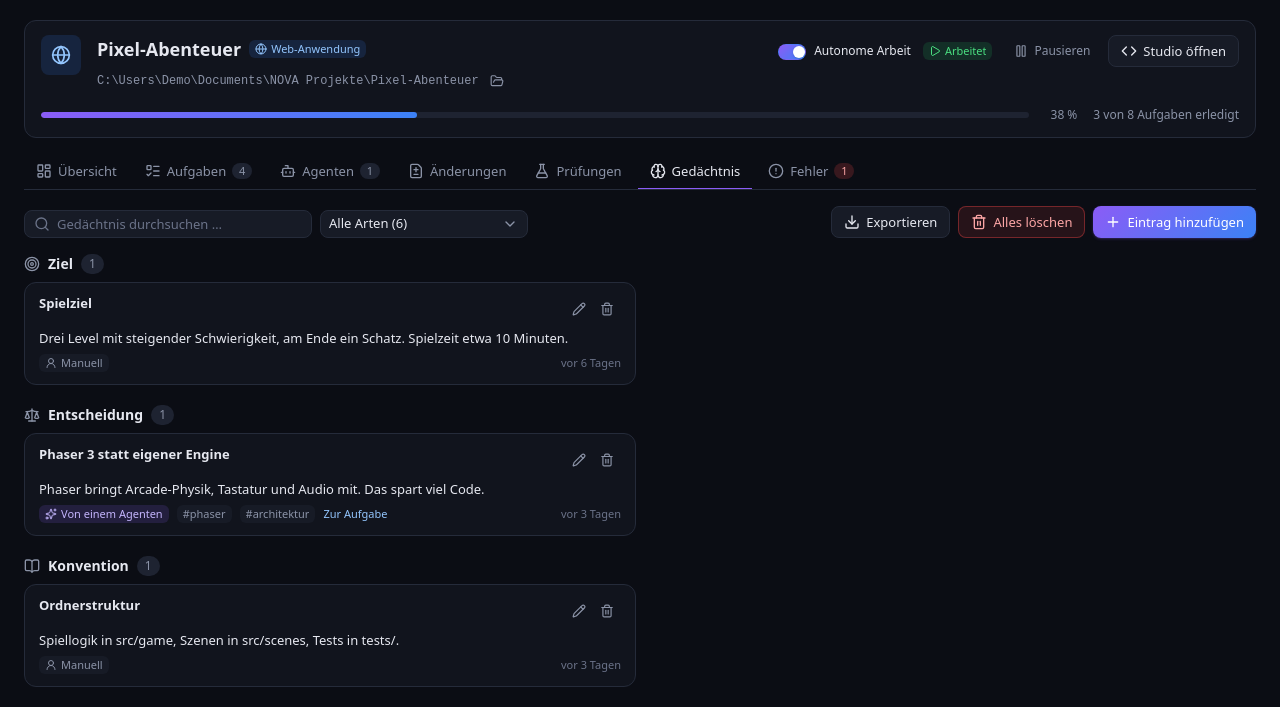
it: Gedächtnis › adds an entry
expect the element "Ziel" is shown: met, box [24,254,636,385]
Click the button "Eintrag hinzufügen": [1175, 222] box [1094,206,1256,238]
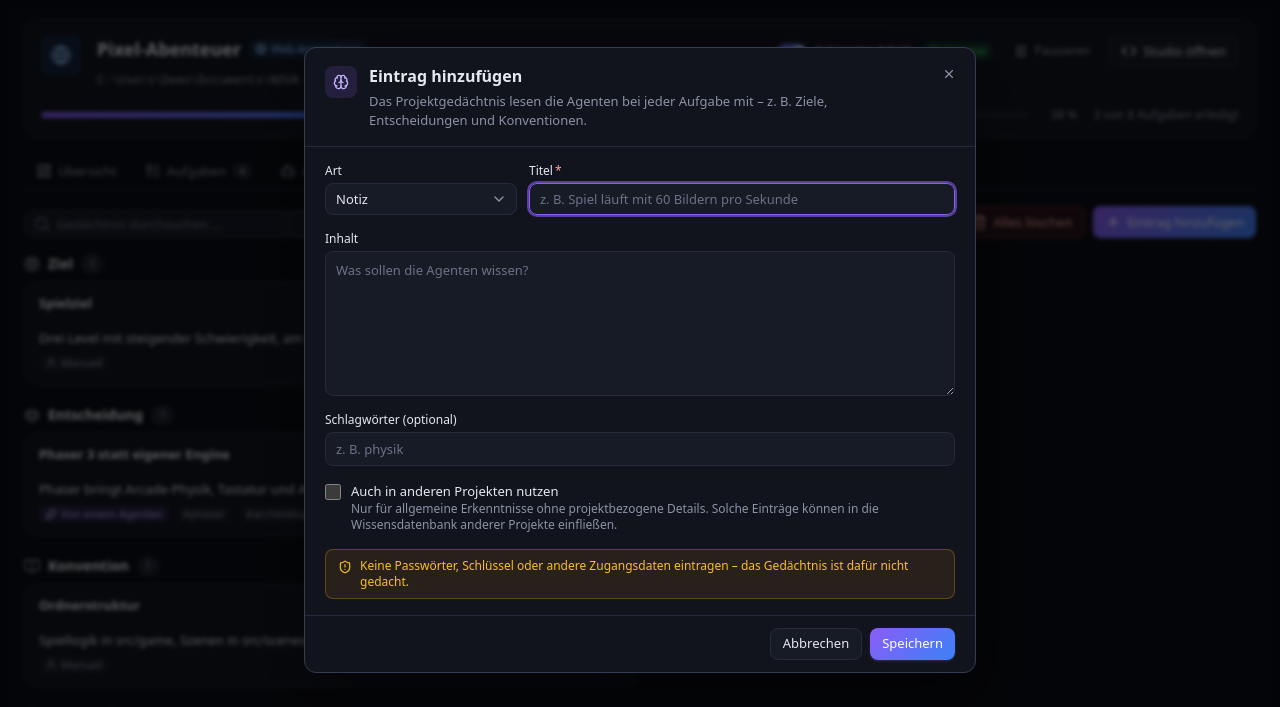
Select "Entscheidung" in the dropdown labelled "Art": [421, 199] box [325,183,517,215]
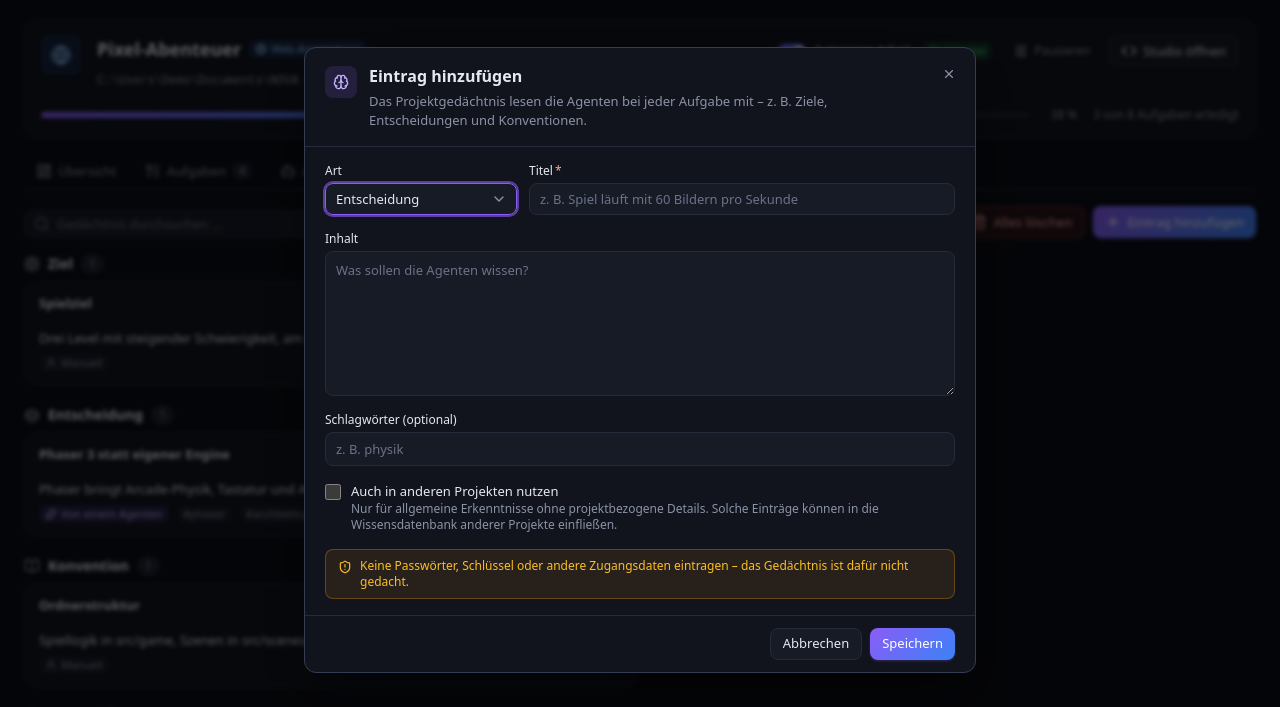
In the field labelled "Titel*": [742, 199] box [529,183,955,215], type "Kein Mehrspieler"
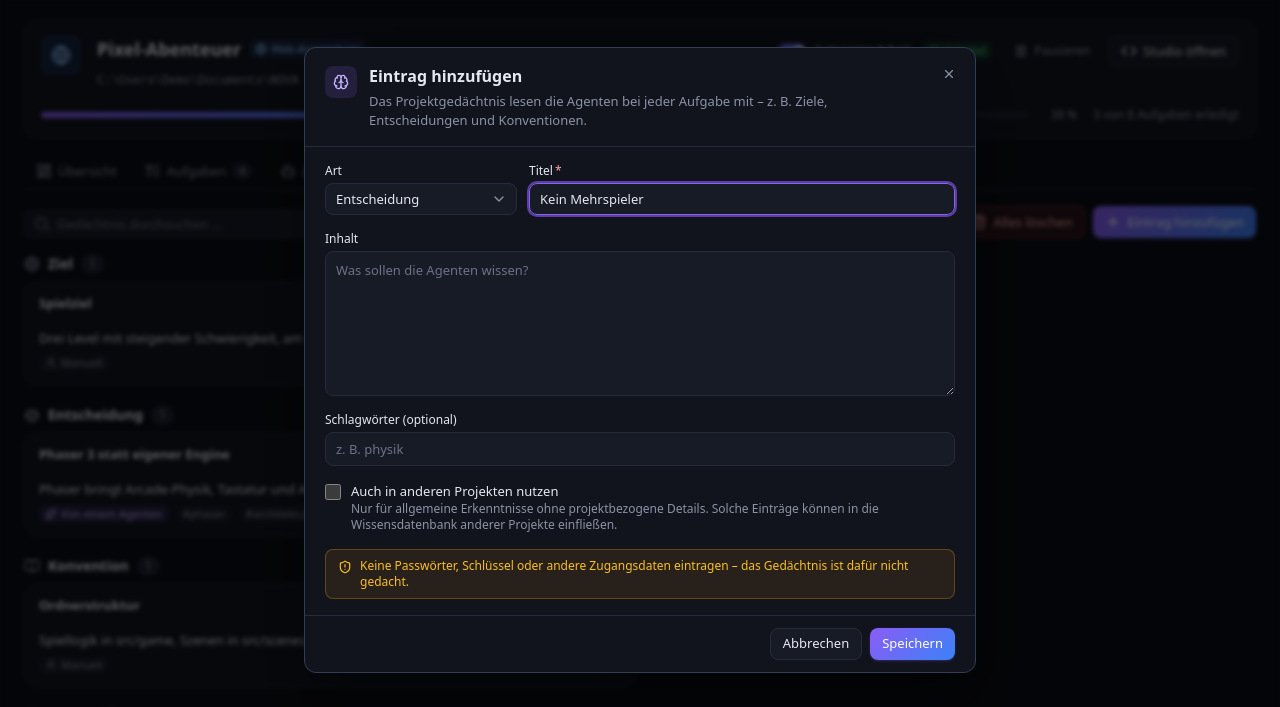
In the text box labelled "Inhalt": [640, 323] box [325,251,955,396], type "Das Spiel bleibt ein Einzelspieler-Spiel."
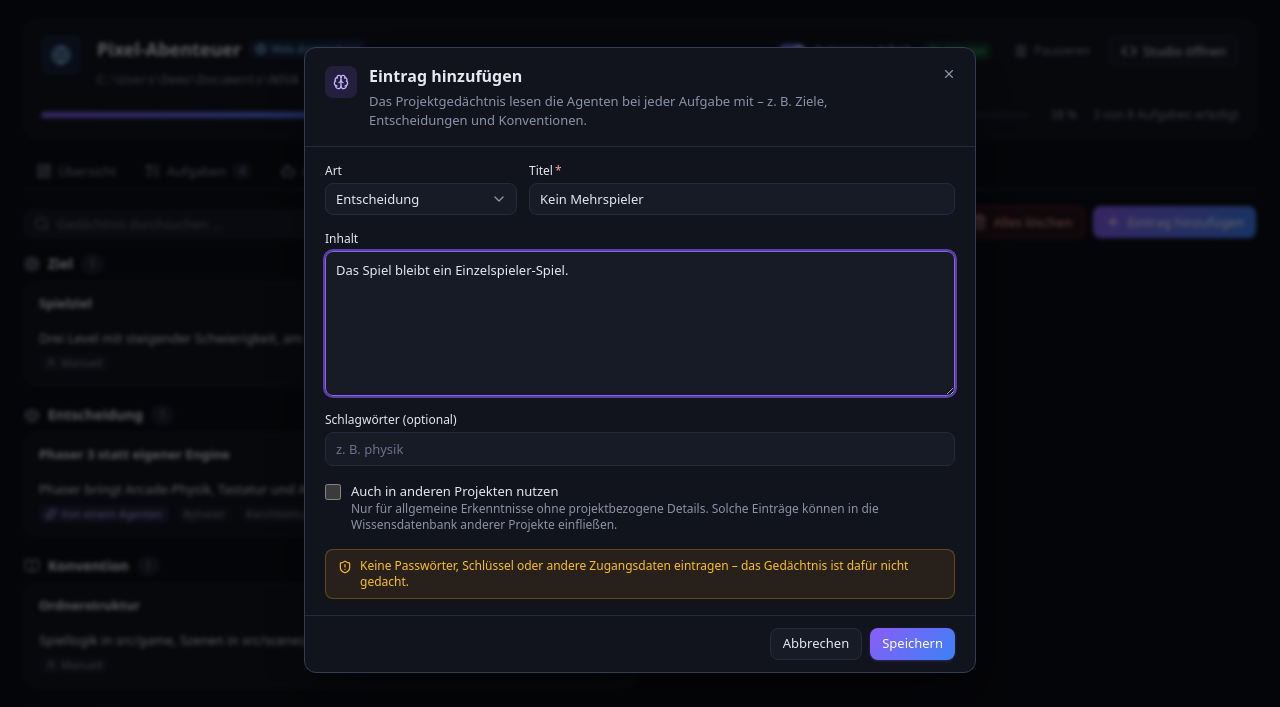
Click the button "Speichern": [913, 644] box [870,628,955,660]
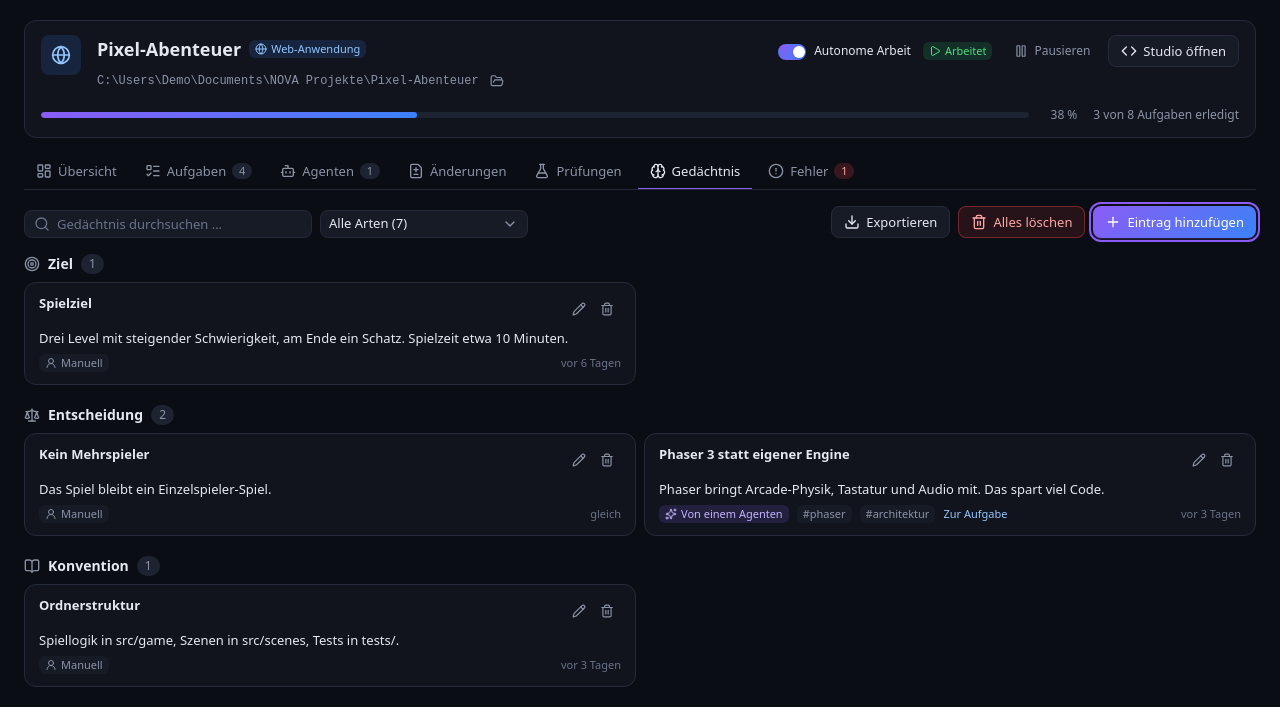
expect the heading "Kein Mehrspieler" is shown: met, box [39,446,150,462]
